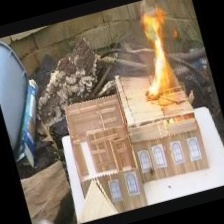fire: (118, 0, 195, 107)
